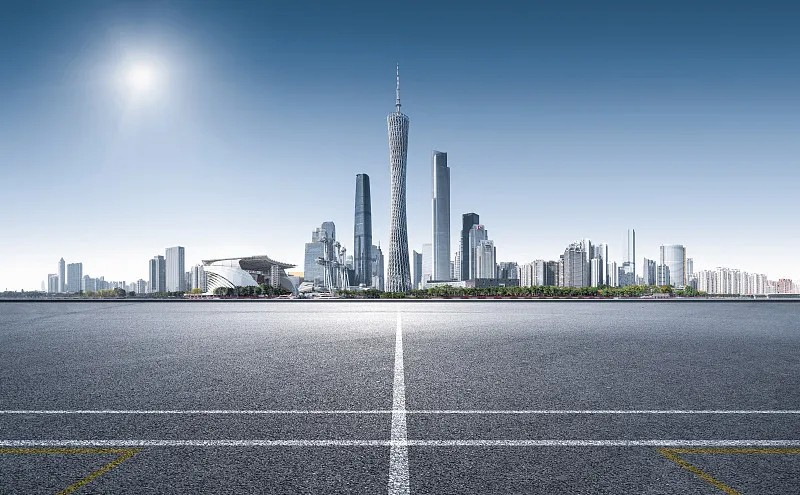Canton: (383, 60, 412, 294)
